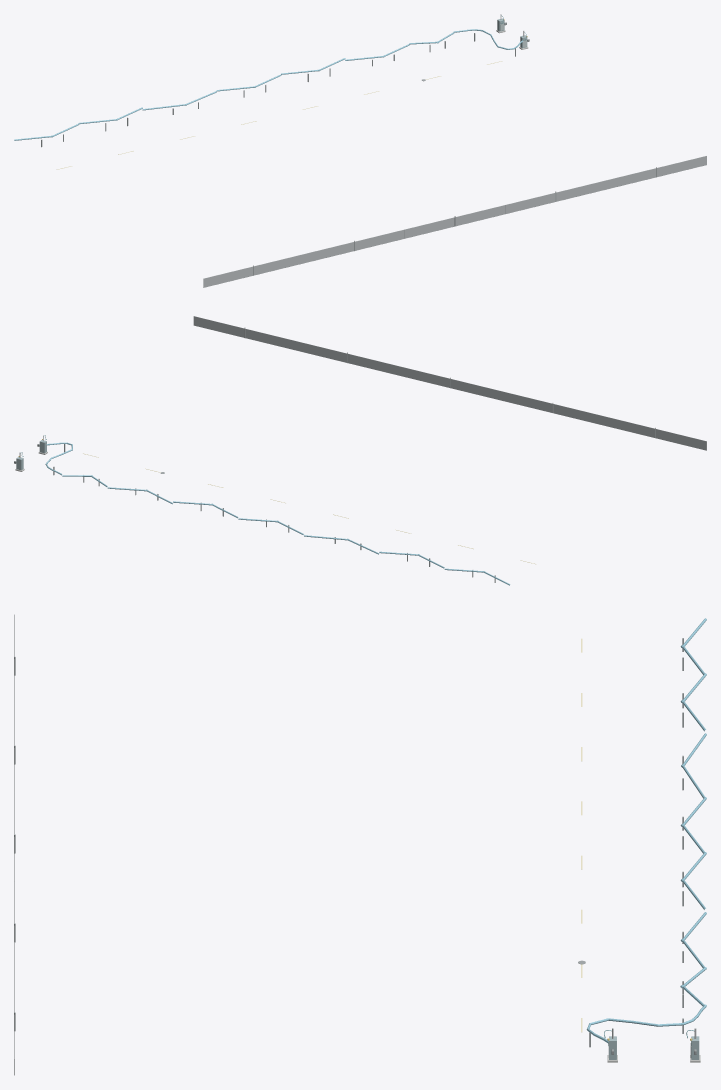
3 renders of one model, top to bottom at view 1: azimuth 30°, elevation 25°; view 2: azimuth 150°, elevation 25°; view 3: azimuth 270°, elevation 25°, orthographic. The views are drawn at different scales.
Parts seen in each view (by area): view 1: render-batch-6, render-batch-2; view 2: render-batch-6, render-batch-2; view 3: render-batch-2.
Part boxes in pixels (bbox=[...]): render-batch-6: bbox=[203, 156, 706, 287]; render-batch-2: bbox=[14, 29, 522, 140]; render-batch-6: bbox=[193, 316, 706, 450]; render-batch-2: bbox=[45, 442, 510, 585]; render-batch-2: bbox=[586, 618, 706, 1043].
Size of the model in its own units: 102 by 3.38 by 67.2.
